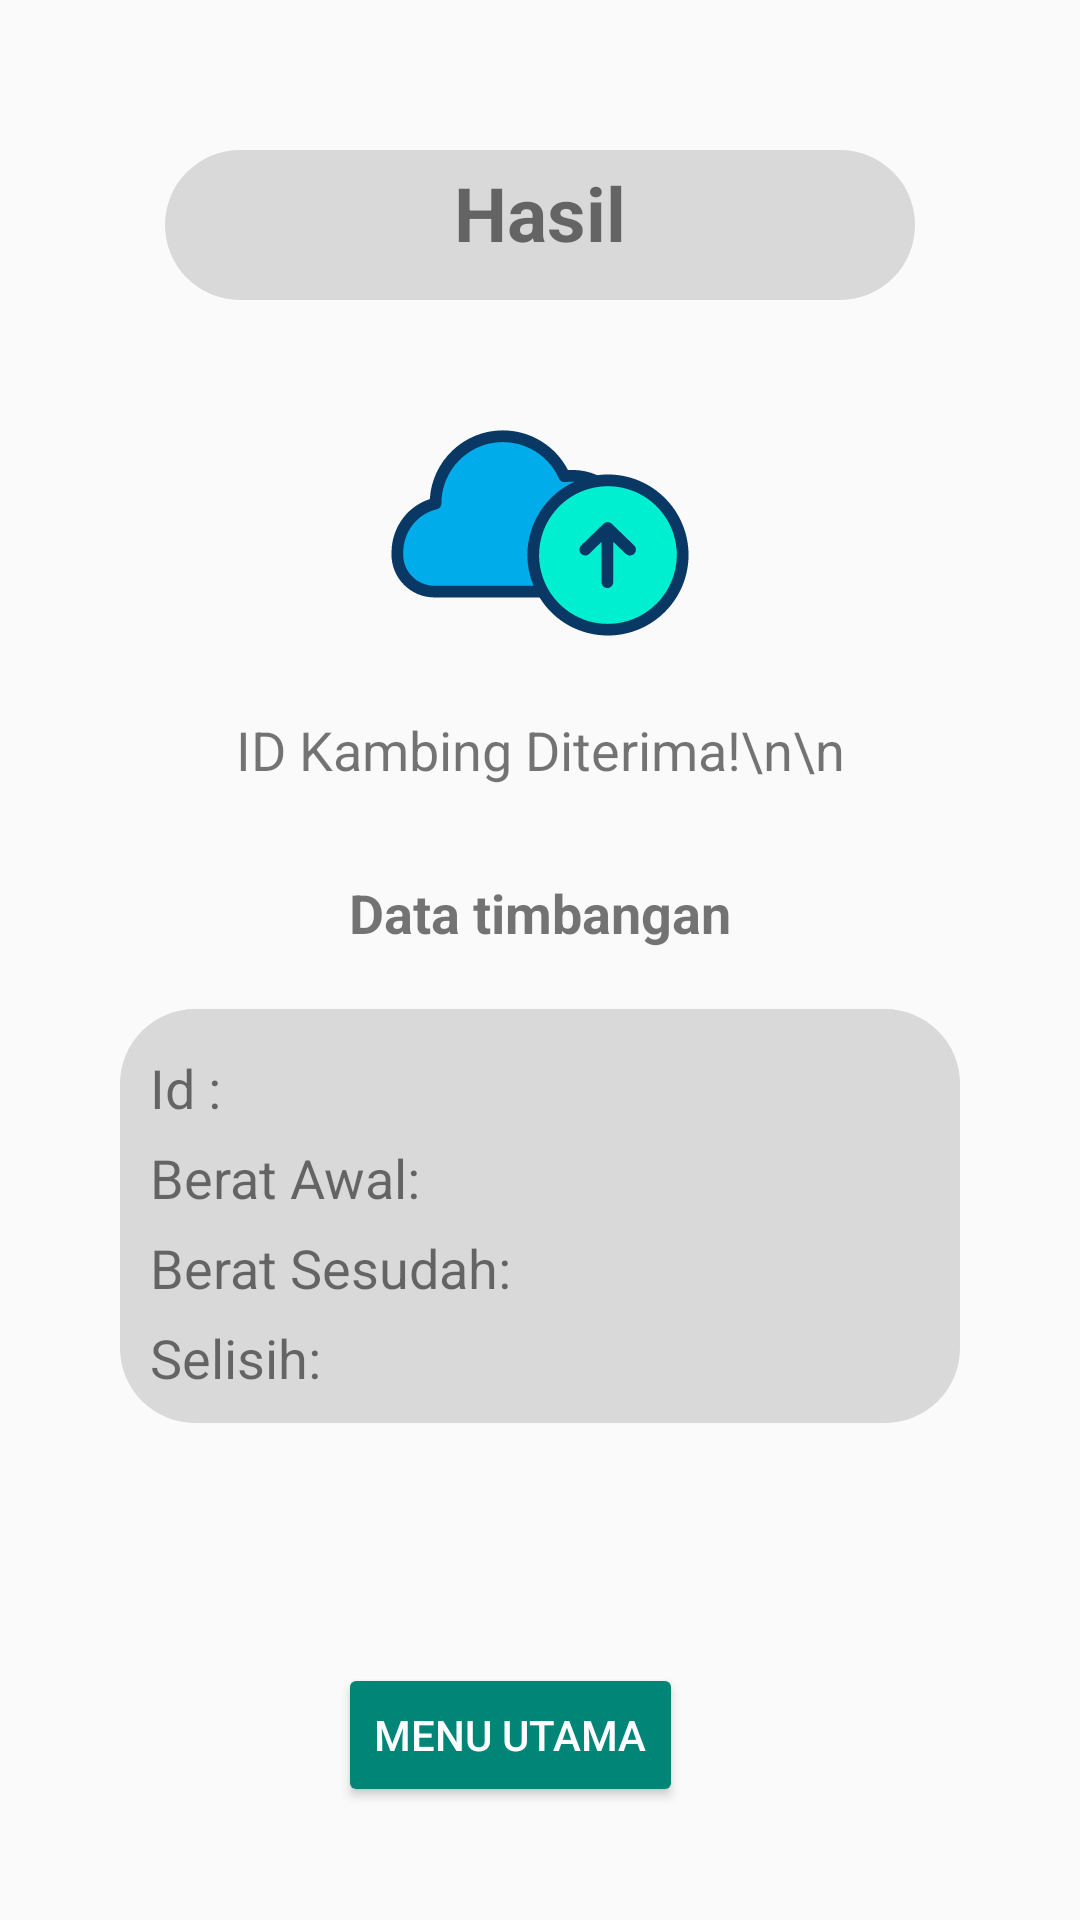

Icons on this 1080w x 1920h Android screen, each with its box as [x1,y1,x2,y2]:
upload cloud: [391,430,689,636]
